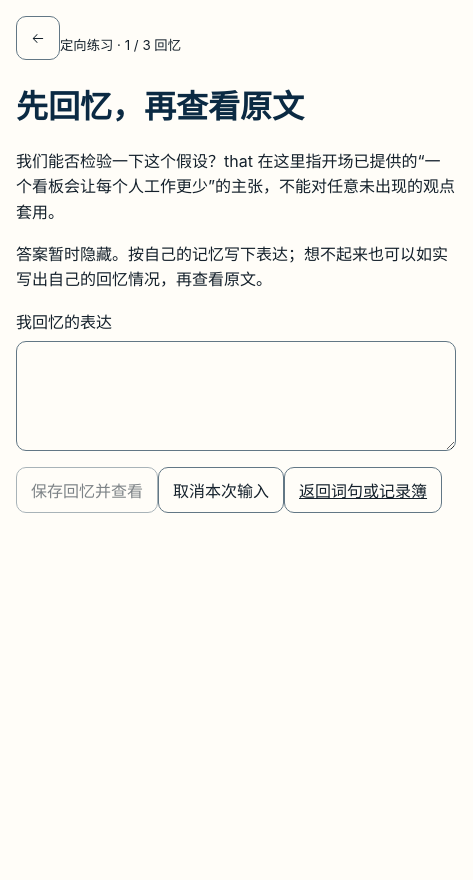
Scenario: does not let a deferred recovery undo a simulation draft submit
Step 1. Type "My real recall" into the text box labelled "我回忆的表达" → point(236, 396), box 16,341 -> 456,451
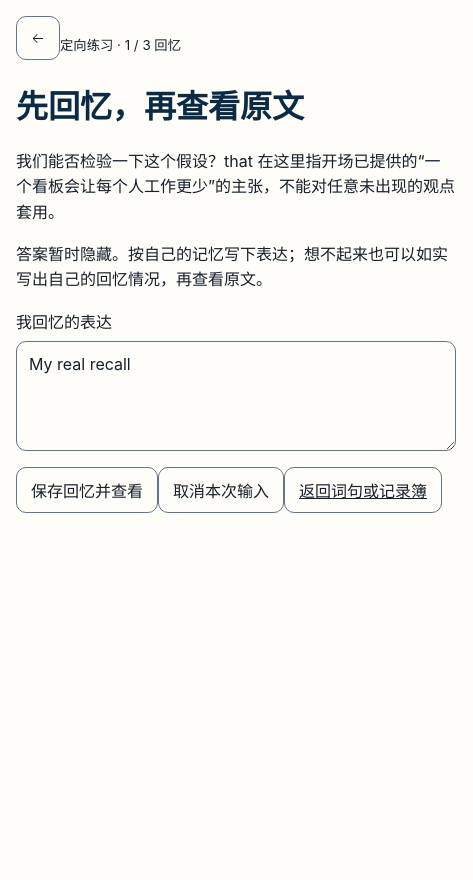
Step 2. Click the button "保存回忆并查看" → point(87, 490), box 16,467 -> 158,513
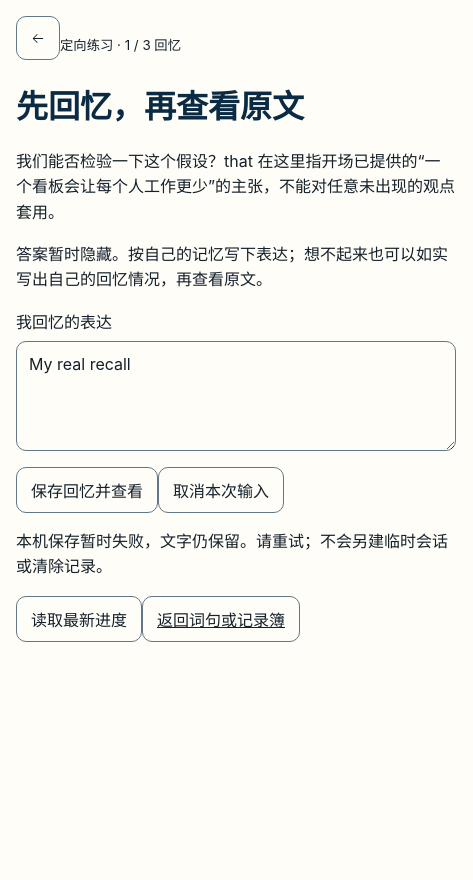
Expected: the message "本机保存暂时失败，文字仍保留。请重试；不会另建临时会话或清除记录。" is shown, 16,529 -> 456,580
Step 3. Click the button "读取最新进度" → point(79, 619), box 16,596 -> 142,642
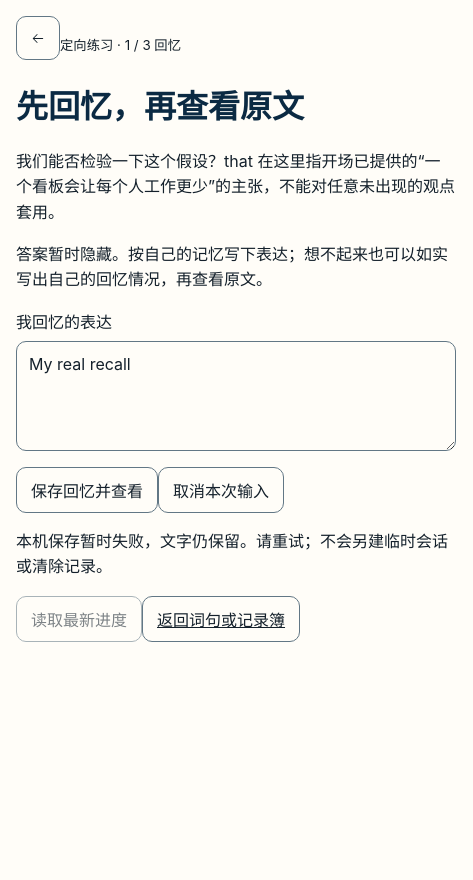
Step 4. Click the button "保存回忆并查看" → point(87, 490), box 16,467 -> 158,513
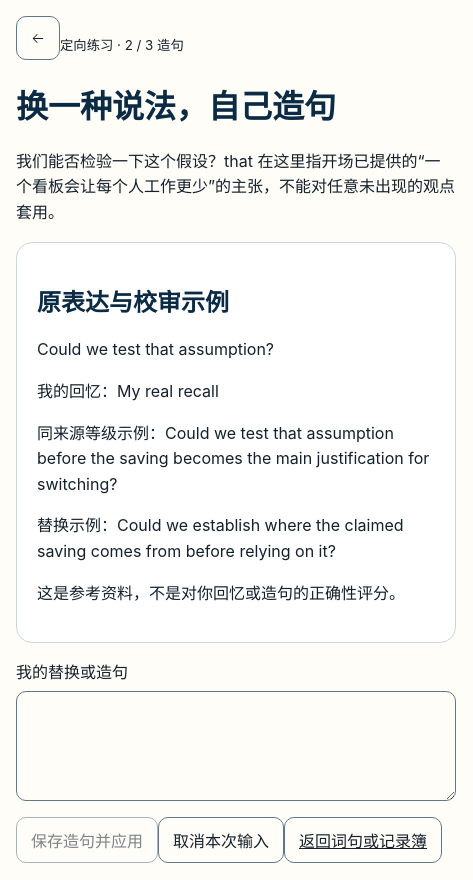
Expected: the text box labelled "我的替换或造句" is empty, 16,691 -> 456,801
Expected: the label labelled "我回忆的表达" is gone
